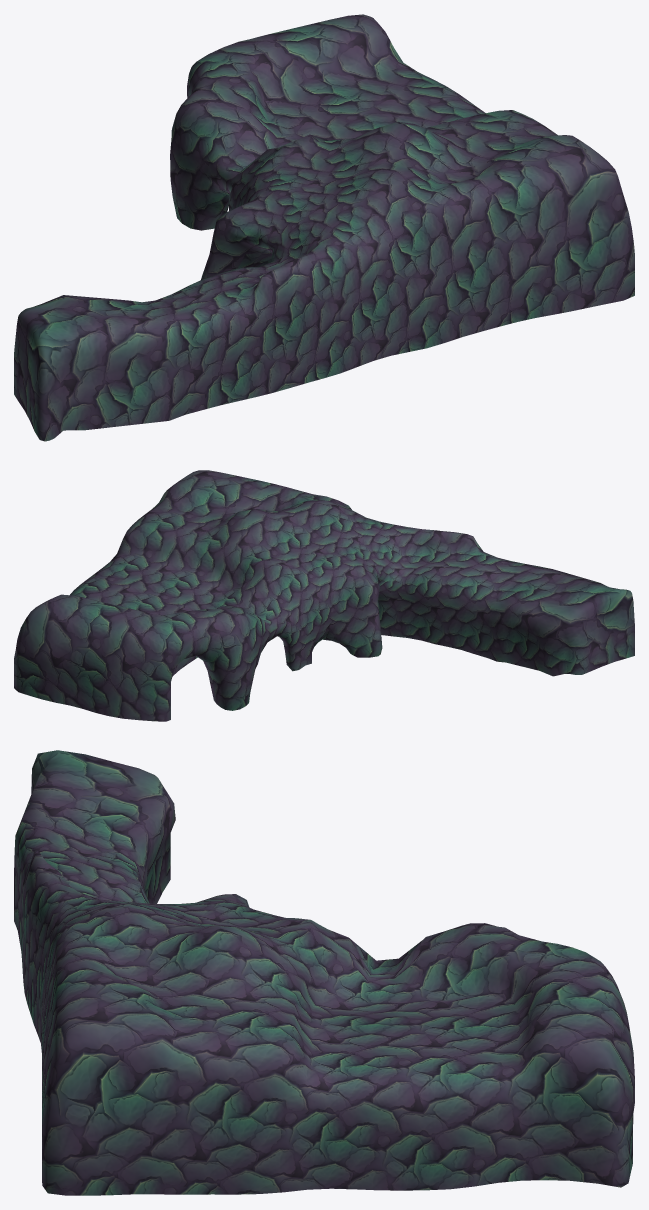
Rendered from Cave.fbx.
3 views of the same model, one above another, from view 1: azimuth 30°, elevation 25°; view 2: azimuth 150°, elevation 25°; view 3: azimuth 270°, elevation 25° (orthographic). The views are drawn at different scales.
Visible parts, largest first — view 1: Terrain; view 2: Terrain; view 3: Terrain.
Boxes of the visible parts, left/top/right/bottom form: Terrain: left=14, top=14, right=634, bottom=441; Terrain: left=14, top=470, right=634, bottom=721; Terrain: left=14, top=750, right=634, bottom=1195.
Bounding box in the file's own units: 20185 × 5061 × 15654.
